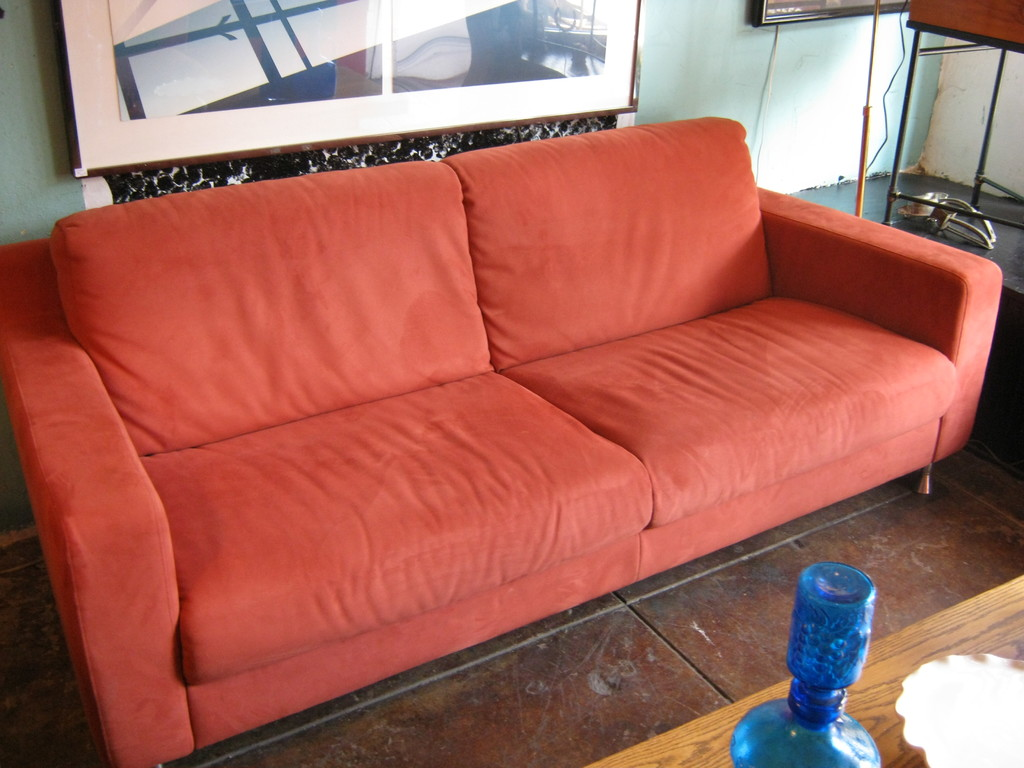Couch: (0, 113, 1001, 767)
